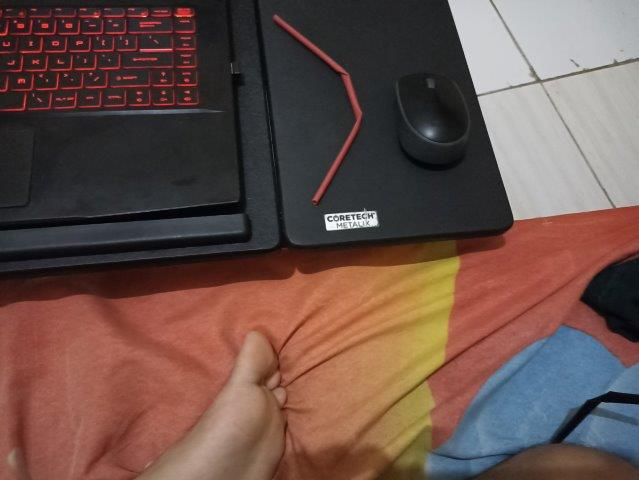sedotan: (272, 15, 363, 206)
